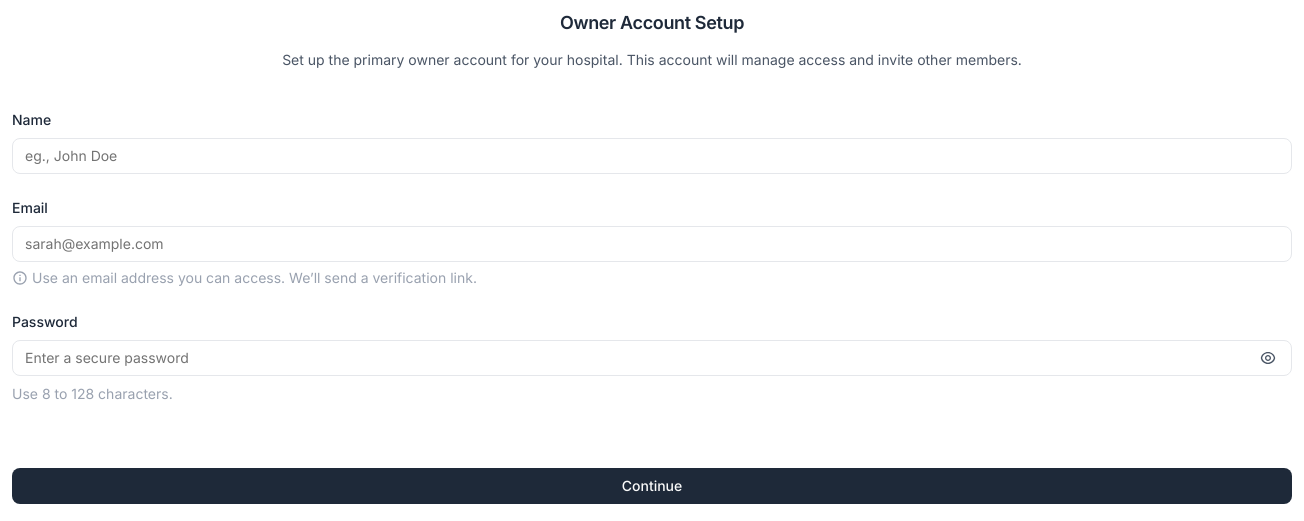
Test: OwnerClient › tells the owner to sign in when their email already has an account
Type "Sarah Thompson" into the field labelled "Name" at (652, 156), box [12,138,1292,174]
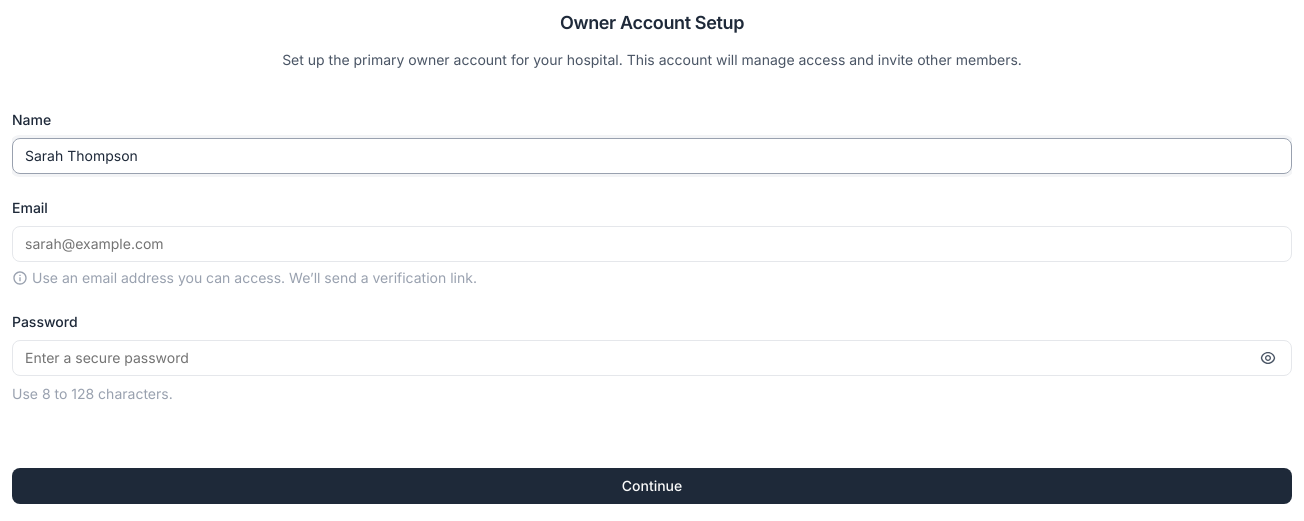
Type "sarah@stmary.org" into the field labelled "Email" at (652, 244), box [12,226,1292,262]
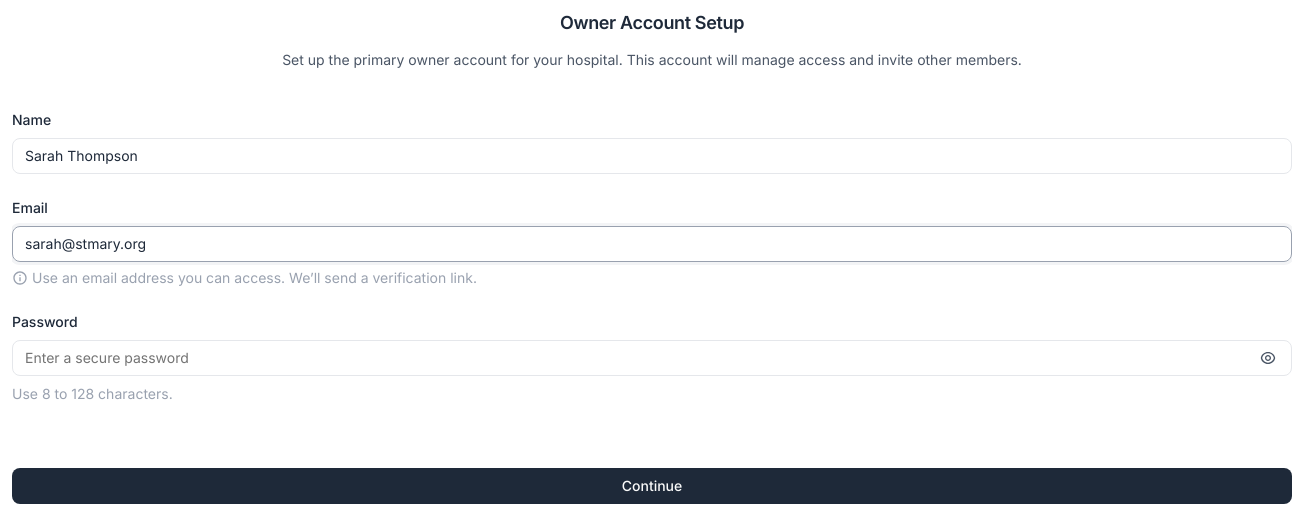
Type "secure-password" into the password field labelled "Password" at (652, 358), box [12,340,1292,376]
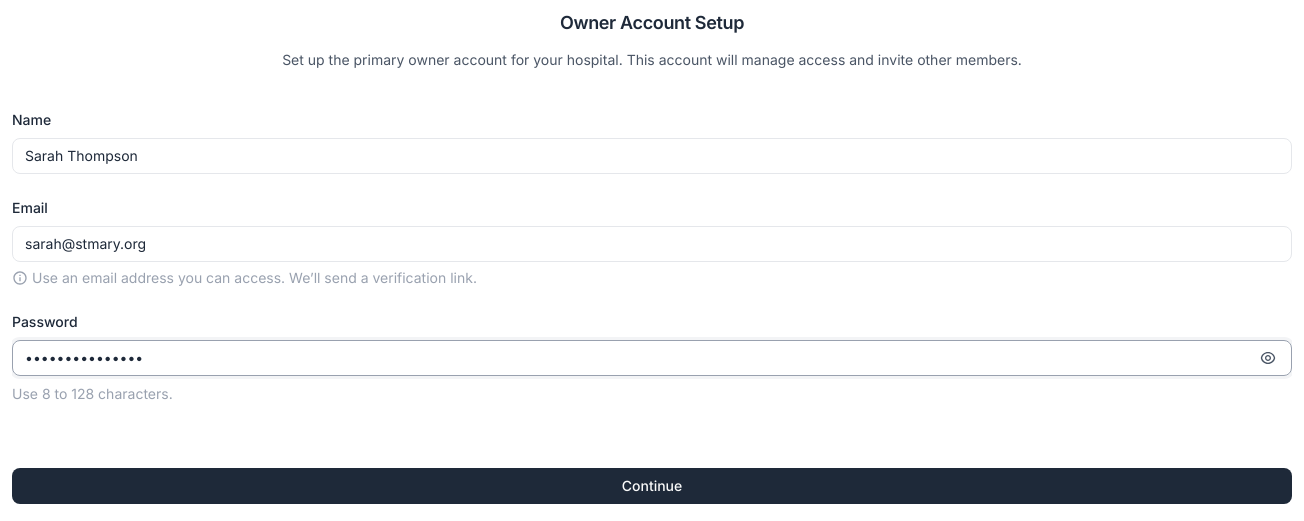
Click the button "Continue" at (652, 486), box [12,468,1292,504]
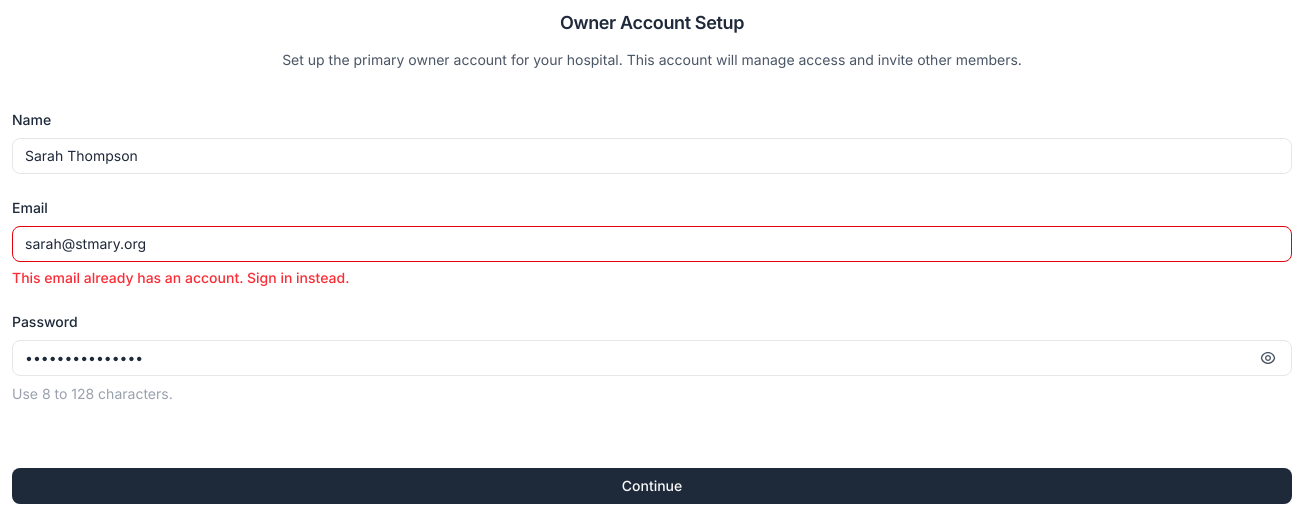
Expected: the text "This email already has an account. Sign in instead." is shown, [12,269,349,286]
